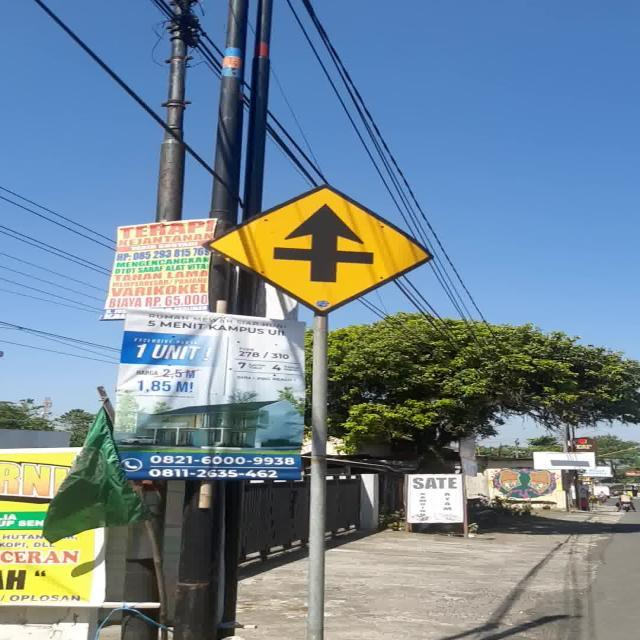Persimpangan 3 Prioritas: (202, 184, 436, 312)
